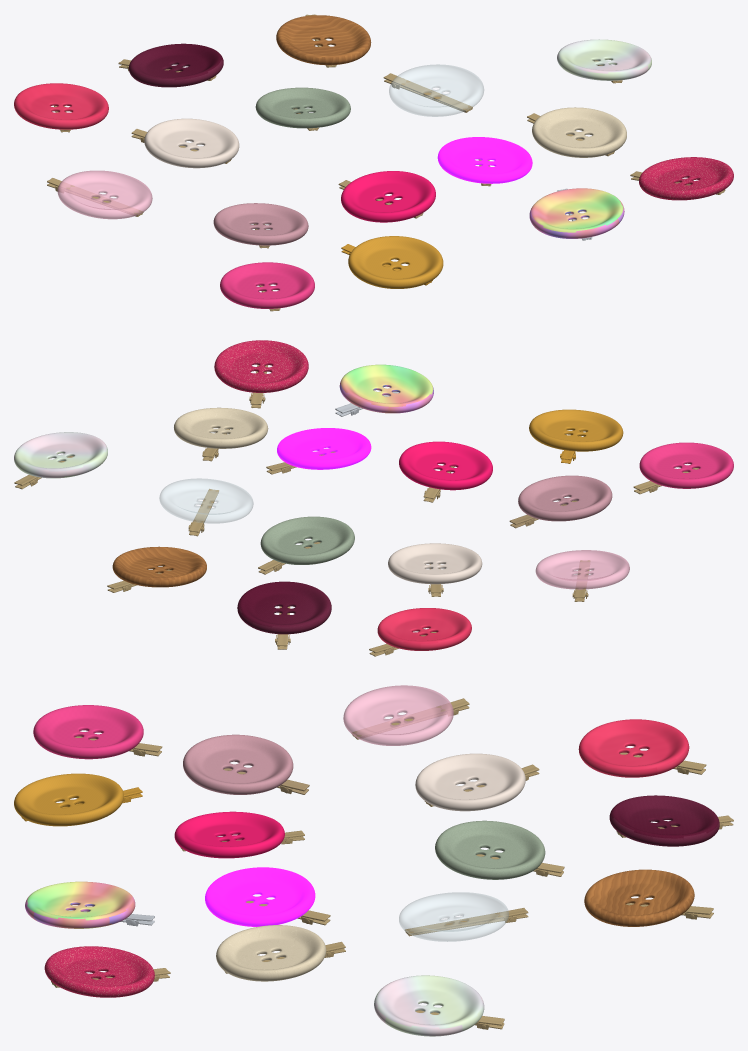
Rendered from HairClip_All16.glb.
3 views of the same model, one above another, from view 1: azimuth 30°, elevation 25°; view 2: azimuth 150°, elevation 25°; view 3: azimuth 270°, elevation 25° (orthographic). The views are drawn at different scales.
Parts seen in each view (by area): view 1: HairClip_FullGold__Pink_Four_Hole_Button, HairClip_Glass__Pink_Four_Hole_Button, HairClip_GlossyPlastic__Pink_Four_Hole_Button, HairClip_Holographic__Pink_Four_Hole_Button, HairClip_Paper__Pink_Four_Hole_Button, HairClip_Wood__Pink_Four_Hole_Button, HairClip_Ceramic__Pink_Four_Hole_Button, HairClip_TransparentAcrylic__Pink_Four_Hole_Button, HairClip_Original__Pink_Four_Hole_Button, HairClip_Emissive__Pink_Four_Hole_Button, HairClip_Candy__Pink_Four_Hole_Button, HairClip_Velvet__Pink_Four_Hole_Button (+6 smaller); view 2: HairClip_Velvet__Pink_Four_Hole_Button, HairClip_Glitter__Pink_Four_Hole_Button, HairClip_Holographic__Pink_Four_Hole_Button, HairClip_Silicone__Pink_Four_Hole_Button, HairClip_GlossyPlastic__Pink_Four_Hole_Button, HairClip_Original__Pink_Four_Hole_Button, HairClip_MotherOfPearl__Pink_Four_Hole_Button, HairClip_Matte__Pink_Four_Hole_Button, HairClip_Glass__Pink_Four_Hole_Button, HairClip_Candy__Pink_Four_Hole_Button, HairClip_Emissive__Pink_Four_Hole_Button, HairClip_FullGold__Pink_Four_Hole_Button (+4 smaller); view 3: HairClip_MotherOfPearl__Pink_Four_Hole_Button, HairClip_Matte__Pink_Four_Hole_Button, HairClip_TransparentAcrylic__Pink_Four_Hole_Button, HairClip_Emissive__Pink_Four_Hole_Button, HairClip_Silicone__Pink_Four_Hole_Button, HairClip_Candy__Pink_Four_Hole_Button, HairClip_Ceramic__Pink_Four_Hole_Button, HairClip_Wood__Pink_Four_Hole_Button, HairClip_Paper__Pink_Four_Hole_Button, HairClip_Original__Pink_Four_Hole_Button, HairClip_FullGold__Pink_Four_Hole_Button, HairClip_Glitter__Pink_Four_Hole_Button (+6 smaller).
Boxes of the visible parts, <box> form: HairClip_FullGold__Pink_Four_Hole_Button: <box>348,236,443,288</box>; HairClip_Glass__Pink_Four_Hole_Button: <box>389,64,484,116</box>; HairClip_GlossyPlastic__Pink_Four_Hole_Button: <box>341,171,435,222</box>; HairClip_Holographic__Pink_Four_Hole_Button: <box>529,188,624,238</box>; HairClip_Paper__Pink_Four_Hole_Button: <box>532,107,626,157</box>; HairClip_Wood__Pink_Four_Hole_Button: <box>276,15,371,65</box>; HairClip_Ceramic__Pink_Four_Hole_Button: <box>144,118,239,168</box>; HairClip_TransparentAcrylic__Pink_Four_Hole_Button: <box>57,170,152,219</box>; HairClip_Original__Pink_Four_Hole_Button: <box>220,262,314,308</box>; HairClip_Emissive__Pink_Four_Hole_Button: <box>437,137,532,183</box>; HairClip_Candy__Pink_Four_Hole_Button: <box>14,83,108,129</box>; HairClip_Velvet__Pink_Four_Hole_Button: <box>128,43,223,87</box>; HairClip_Velvet__Pink_Four_Hole_Button: <box>237,581,331,634</box>; HairClip_Glitter__Pink_Four_Hole_Button: <box>214,340,308,392</box>; HairClip_Holographic__Pink_Four_Hole_Button: <box>339,364,433,413</box>; HairClip_Silicone__Pink_Four_Hole_Button: <box>260,516,354,564</box>; HairClip_GlossyPlastic__Pink_Four_Hole_Button: <box>399,441,492,490</box>; HairClip_Original__Pink_Four_Hole_Button: <box>639,442,733,488</box>; HairClip_MotherOfPearl__Pink_Four_Hole_Button: <box>14,432,107,478</box>; HairClip_Matte__Pink_Four_Hole_Button: <box>518,475,612,521</box>; HairClip_Glass__Pink_Four_Hole_Button: <box>159,478,253,523</box>; HairClip_Candy__Pink_Four_Hole_Button: <box>377,608,471,650</box>; HairClip_Emissive__Pink_Four_Hole_Button: <box>277,428,371,469</box>; HairClip_FullGold__Pink_Four_Hole_Button: <box>529,409,623,451</box>; HairClip_MotherOfPearl__Pink_Four_Hole_Button: <box>374,975,484,1036</box>; HairClip_Matte__Pink_Four_Hole_Button: <box>183,734,293,794</box>; HairClip_TransparentAcrylic__Pink_Four_Hole_Button: <box>343,685,453,745</box>; HairClip_Emissive__Pink_Four_Hole_Button: <box>205,867,315,926</box>; HairClip_Silicone__Pink_Four_Hole_Button: <box>435,820,545,879</box>; HairClip_Candy__Pink_Four_Hole_Button: <box>578,719,689,777</box>; HairClip_Ceramic__Pink_Four_Hole_Button: <box>415,753,525,811</box>; HairClip_Wood__Pink_Four_Hole_Button: <box>584,869,694,926</box>; HairClip_Paper__Pink_Four_Hole_Button: <box>216,925,326,981</box>; HairClip_Original__Pink_Four_Hole_Button: <box>33,705,143,759</box>; HairClip_FullGold__Pink_Four_Hole_Button: <box>14,773,123,826</box>; HairClip_Glitter__Pink_Four_Hole_Button: <box>44,946,154,997</box>.
Bounding box in the file's own units: 288 × 10.77 × 260.
20 materials, 20 textured.
